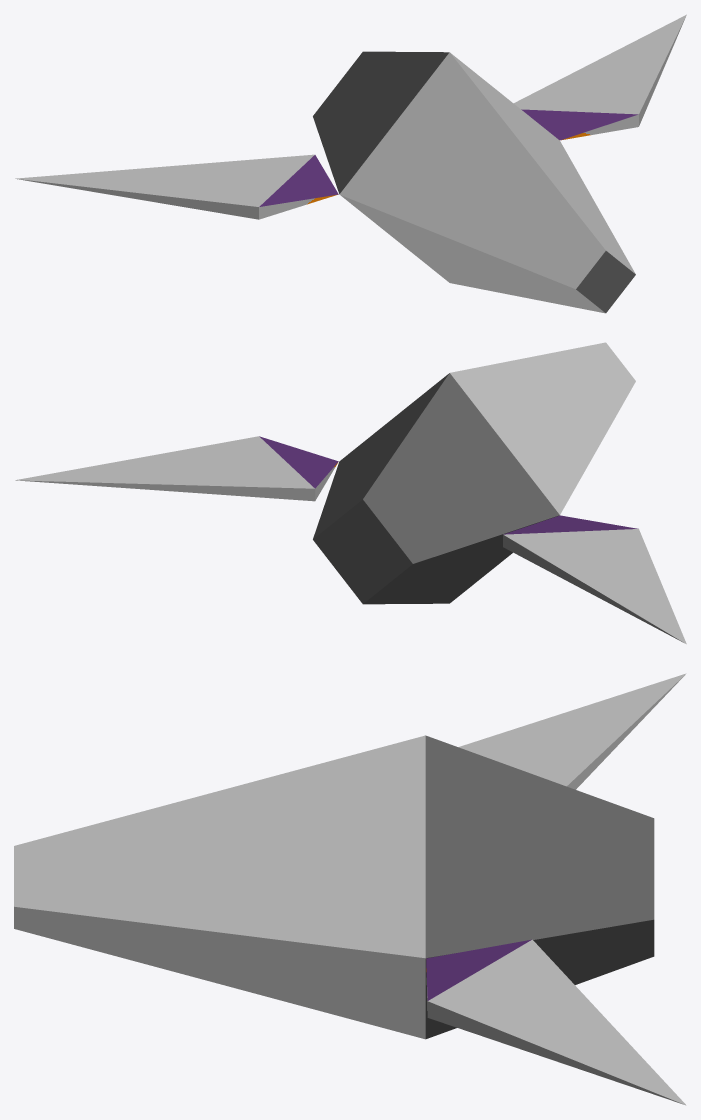
The model's file is Missile1.obj.
3 views of the same model, one above another, from view 1: azimuth 30°, elevation 25°; view 2: azimuth 150°, elevation 25°; view 3: azimuth 270°, elevation 25° (orthographic). The views are drawn at different scales.
Parts seen in each view (by area): view 1: Missile1; view 2: Missile1; view 3: Missile1.
Part boxes in pixels (x1,y1,x2,y2): Missile1: (15, 14, 686, 313); Missile1: (15, 342, 686, 644); Missile1: (14, 673, 686, 1105).
Size of the model in its own units: 1.21 by 0.396 by 0.7945.
